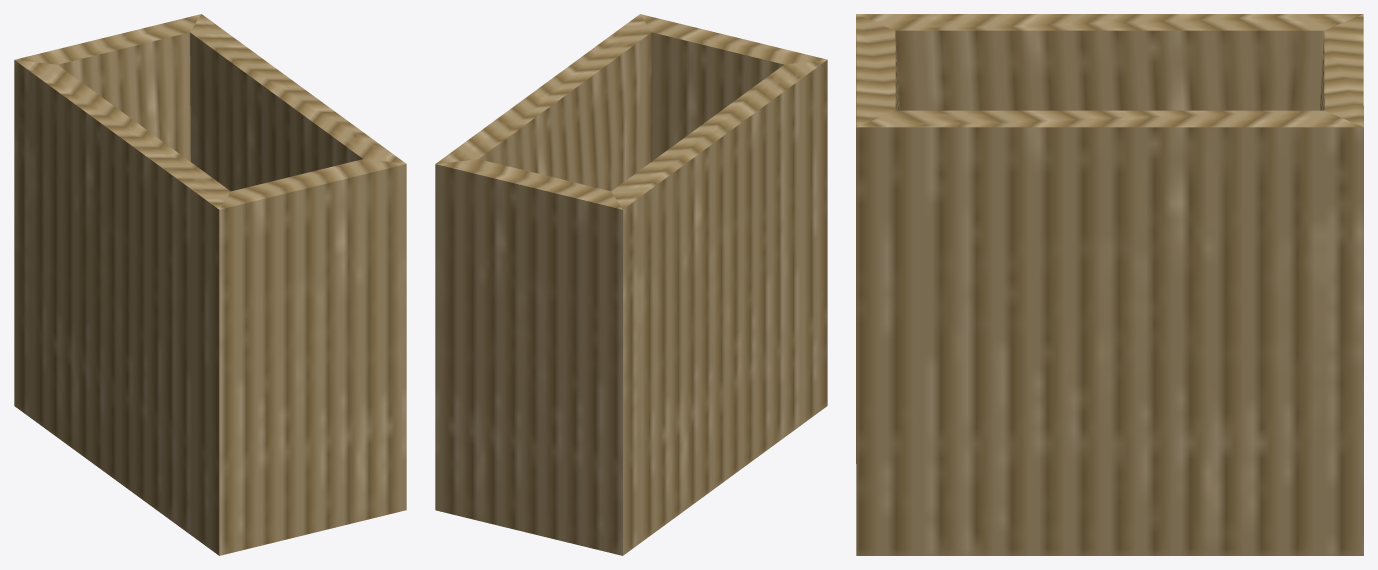
File: backpack_bedroll.obj
3 views of the same model, side by side, from view 1: azimuth 30°, elevation 25°; view 2: azimuth 150°, elevation 25°; view 3: azimuth 270°, elevation 25° (orthographic). The views are drawn at different scales.
Parts seen in each view (by area): view 1: pPipe1; view 2: pPipe1; view 3: pPipe1.
Part boxes in pixels (x1,y1,x2,y2): pPipe1: [14, 14, 406, 555]; pPipe1: [435, 14, 827, 555]; pPipe1: [856, 14, 1363, 555].
Bounding box in the file's own units: 0.4823 × 0.8504 × 0.913.
